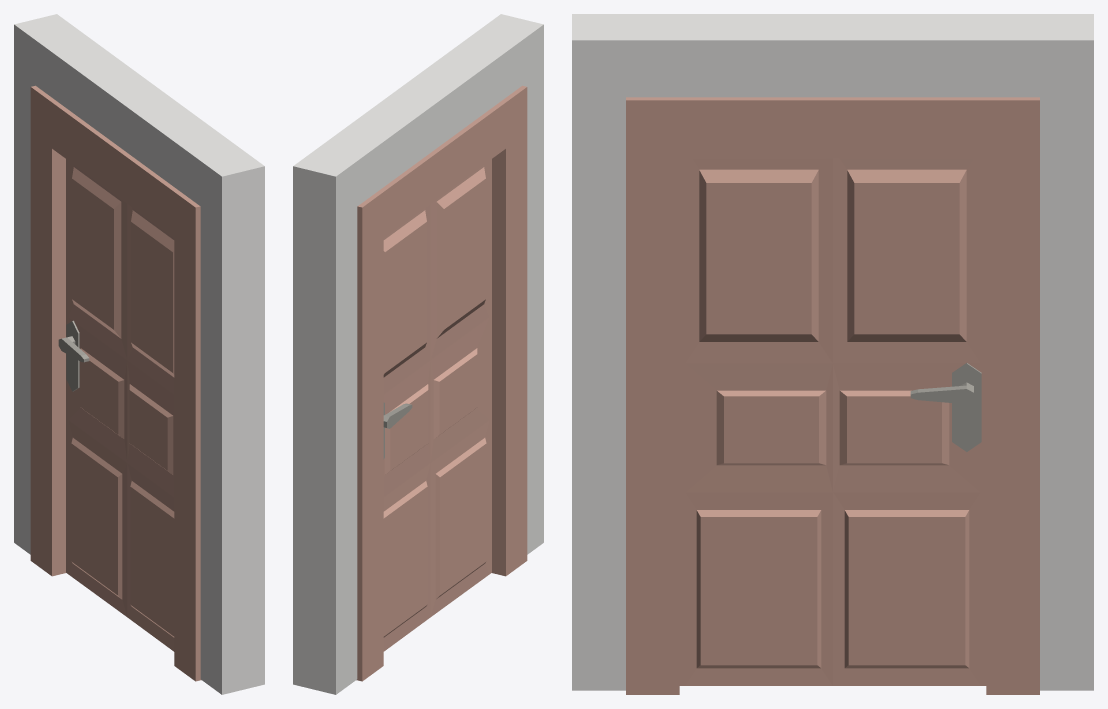
File: Door_house01.fbx
3 views of the same model, side by side, from view 1: azimuth 30°, elevation 25°; view 2: azimuth 150°, elevation 25°; view 3: azimuth 270°, elevation 25° (orthographic). The views are drawn at different scales.
Parts seen in each view (by area): view 1: Door_house01.001; view 2: Door_house01.001; view 3: Door_house01.001.
Boxes of the visible parts, x1=… form: Door_house01.001: x1=14, y1=14, x2=264, y2=694; Door_house01.001: x1=293, y1=14, x2=543, y2=694; Door_house01.001: x1=572, y1=14, x2=1093, y2=694.
Bounding box in the file's own units: 31.91 × 301 × 219.
